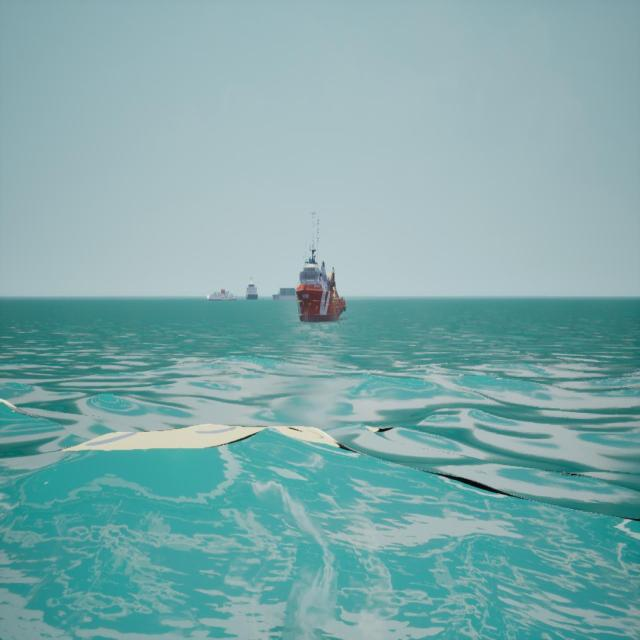tug boat: (297, 215, 346, 324)
